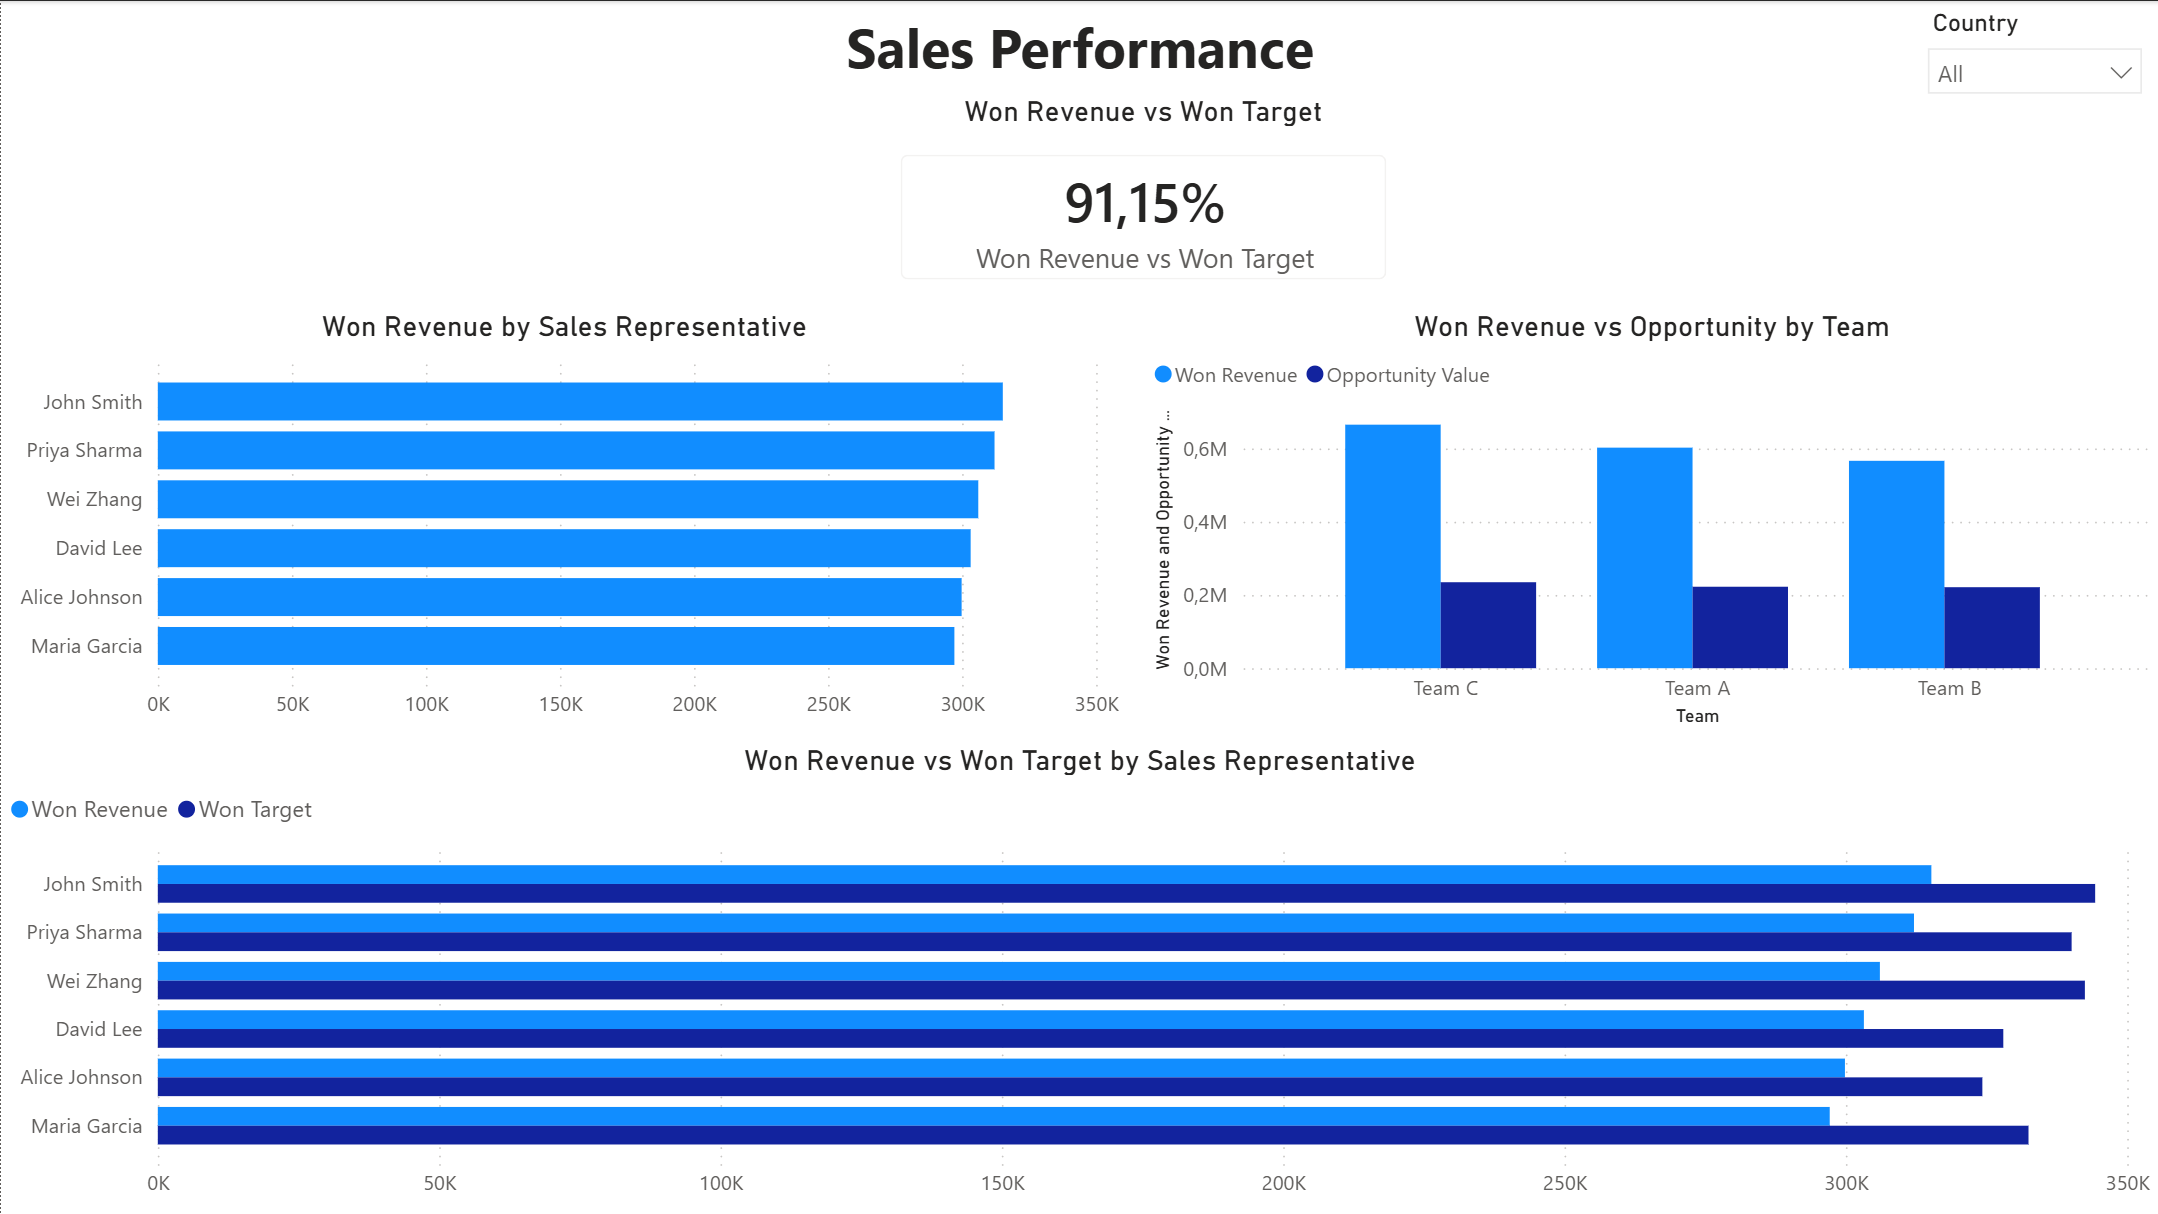

The page's visual inventory and layout, read from the dashboard file:
{"tool":"powerbi","page":{"name":"Sales Performance","canvas":[1280,720],"ordinal":2},"visuals":[{"type":"clusteredBarChart","title":"Won Revenue by Sales Representative","fields":{"Category":["Raw sales datasets.Sales_Rep"],"Y":["Raw sales datasets.Won Revenue"]},"box":[0,182.4,668.5,252.4],"z":0},{"type":"clusteredColumnChart","title":"Won Revenue vs Opportunity by Team","fields":{"Category":["Raw sales datasets.Team"],"Y":["Raw sales datasets.Won Revenue","Raw sales datasets.Opportunity Value"]},"box":[678.2,182.7,601.8,252],"z":1000},{"type":"cardVisual","title":"Won Revenue vs Won Target","fields":{"Data":["Raw sales datasets.Won Revenue vs Won Target"]},"box":[516.7,55.4,322.1,127.4],"z":2000},{"type":"clusteredBarChart","title":"Won Revenue vs Won Target by Sales Representative","fields":{"Category":["Raw sales datasets.Sales_Rep"],"Y":["Raw sales datasets.Won Revenue","Raw sales datasets.Won Target"]},"box":[0,440,1280,279.6],"z":3000},{"type":"textbox","box":[0,0,1280,55.4],"z":4000},{"type":"slicer","fields":{"Values":["Raw sales datasets.Country"]},"box":[1132.5,0,147.5,64.9],"z":5000}]}

Visuals, with their boxes in screenshot pixels (x1, y1, x2, y2), scaled from the page's 1280x720 canvas onto the 2158x1214 screenshot:
"Won Revenue by Sales Representative" clusteredBarChart: [0, 308, 1127, 733]
"Won Revenue vs Opportunity by Team" clusteredColumnChart: [1143, 308, 2157, 733]
"Won Revenue vs Won Target" cardVisual: [871, 93, 1414, 308]
"Won Revenue vs Won Target by Sales Representative" clusteredBarChart: [0, 742, 2157, 1213]
textbox: [0, 0, 2157, 93]
slicer - Raw sales datasets.Country: [1909, 0, 2157, 109]
